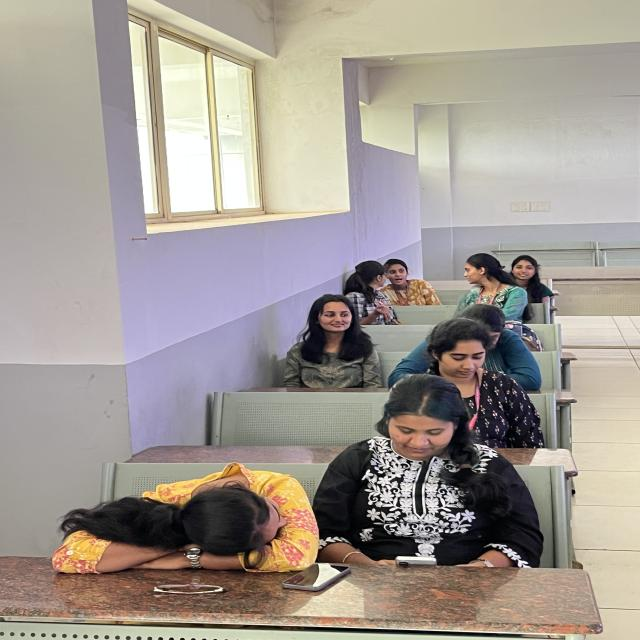Sleeping: (23, 458, 352, 588)
Using Phone: (308, 386, 528, 606)
